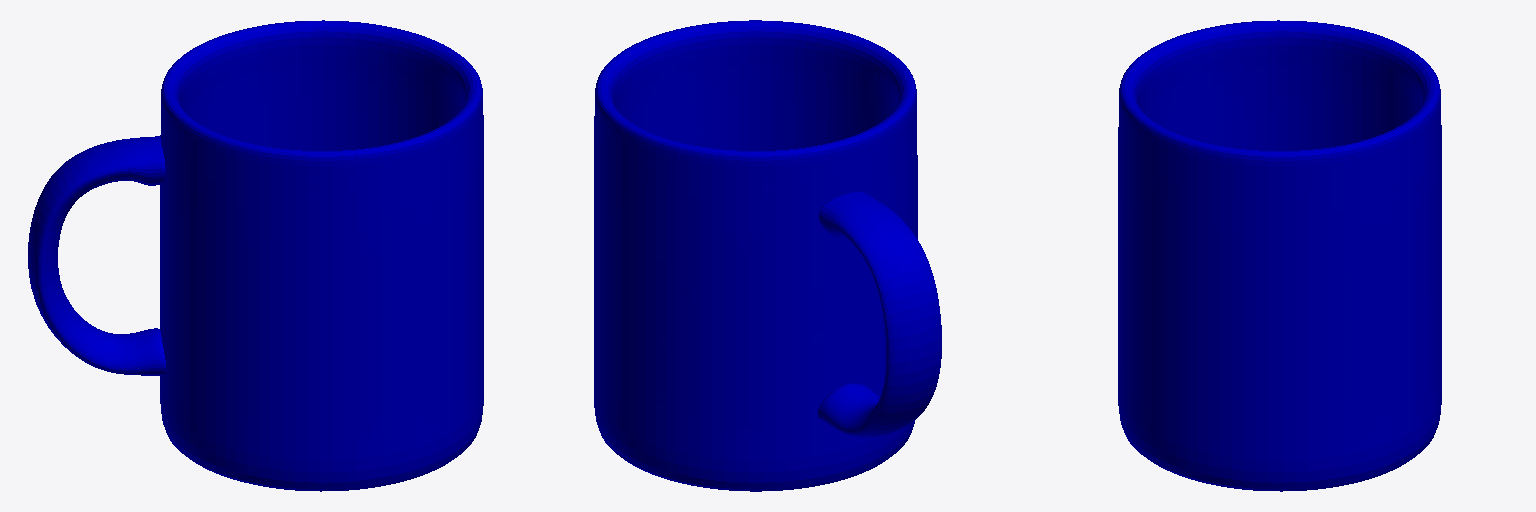
The robot description file, URDF, robot "coffee_mug":
<?xml version="1.0" ?>
<robot name = "coffee_mug">
  <material name="Black">
    <color rgba="0.0 0.0 0.0 1.0"/>
  </material>
  <material name="Blue">
    <color rgba="0.0 0.0 0.8 1.0"/>
  </material>
  <material name="Green">
    <color rgba="0.0 0.8 0.0 1.0"/>
  </material>
  <material name="Grey">
    <color rgba="0.4 0.4 0.4 1.0"/>
  </material>
  <material name="Orange">
    <color rgba="1.0 0.423529411765 0.0392156862745 1.0"/>
  </material>
  <material name="Brown">
    <color rgba="0.870588235294 0.811764705882 0.764705882353 1.0"/>
  </material>
  <material name="Red">
    <color rgba="0.8 0.0 0.0 1.0"/>
  </material>
  <material name="White">
    <color rgba="1.0 1.0 1.0 1.0"/>
  </material>
	<link name = "coffee_mug">
	<visual>
		<origin rpy="1.5707963 0 0" xyz="-0.03 -0.01 0"/>
		<geometry>
		<mesh filename="../meshes/coffee_mug.obj"/>
		</geometry>
		<material name="Blue"/>
	</visual>
	<collision>
		<origin rpy="1.5707963 0 0" xyz="-0.03 -0.01 0"/>
		<geometry>
		<cylinder length="0.05" radius="0.12"/>
		</geometry>
	</collision>
	</link>
</robot>

--- Facts derived from the render (not from the file) ---
3 views of the same robot in one strip: view 1: azimuth 30°, elevation 25°; view 2: azimuth 150°, elevation 25°; view 3: azimuth 270°, elevation 25° (orthographic).
Robot: coffee_mug — 1 links, 0 joints (none); root link coffee_mug; default pose: every joint at zero.
Visible links, largest first — view 1: coffee_mug; view 2: coffee_mug; view 3: coffee_mug.
Link boxes in pixels (left/top/right/bottom): coffee_mug: left=28, top=20, right=483, bottom=491; coffee_mug: left=594, top=20, right=941, bottom=491; coffee_mug: left=1118, top=20, right=1441, bottom=491.
Bounding box of the posed robot: 0.1096 × 0.0818 × 0.0952 m (x, y, z).
1 mesh visuals loaded from 1 distinct referenced files (1 OBJ).